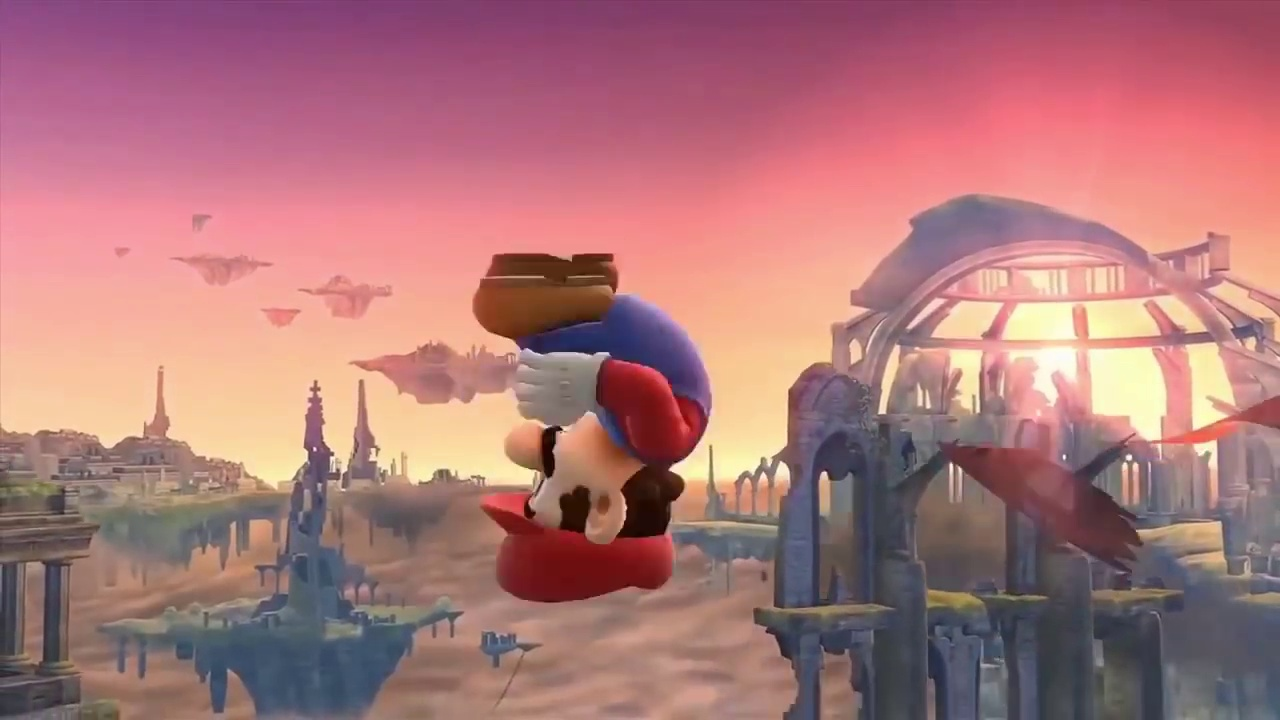Mario: (468, 253, 715, 601)
